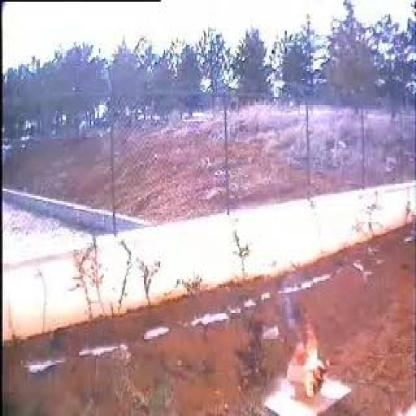-: (279, 275, 303, 334)
foggia-v2-map80-epoch100 - v1 4323: (288, 324, 332, 381)
